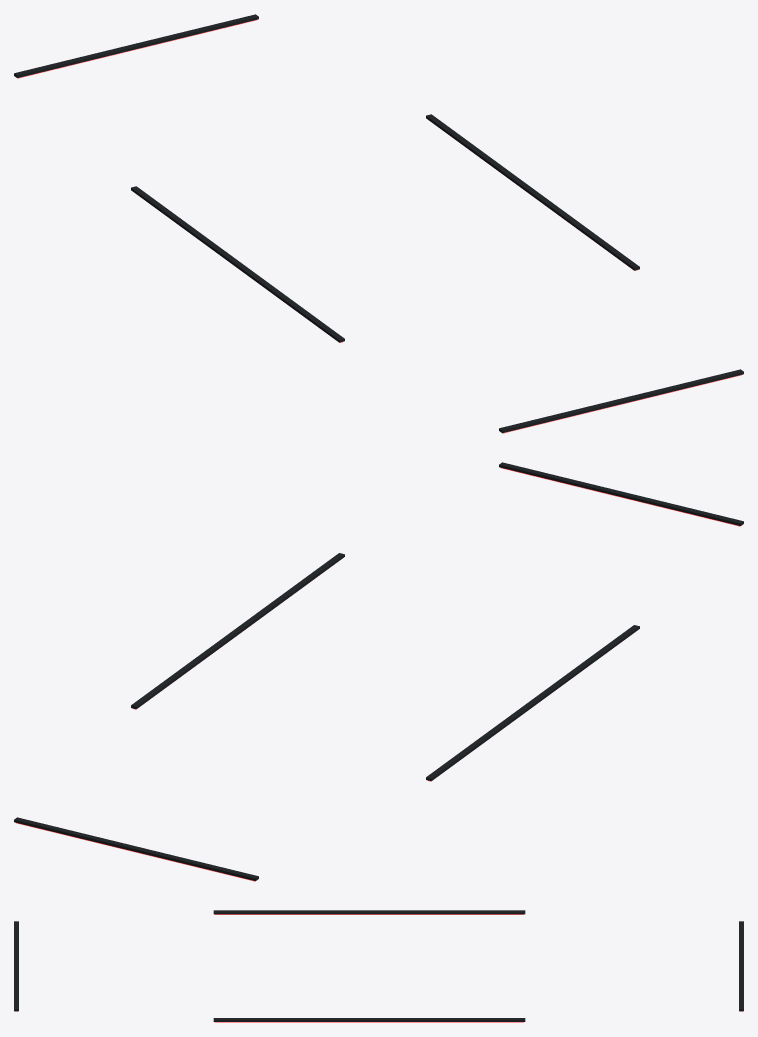
The model's file is strada_evo.glb.
The picture shows the model from 3 angles, top to bottom: view 1: azimuth 30°, elevation 25°; view 2: azimuth 150°, elevation 25°; view 3: azimuth 270°, elevation 25°; orthographic projection. The views are drawn at different scales.
Parts seen in each view (by area): view 1: model; view 2: model; view 3: model.
Boxes of the visible parts, bbox=[...] form: model: bbox=[14, 14, 743, 433]; model: bbox=[14, 462, 743, 881]; model: bbox=[14, 910, 743, 1022].
Size of the model in its own units: 1.48 by 0.0178 by 4.16.
2 materials, 1 textured.
